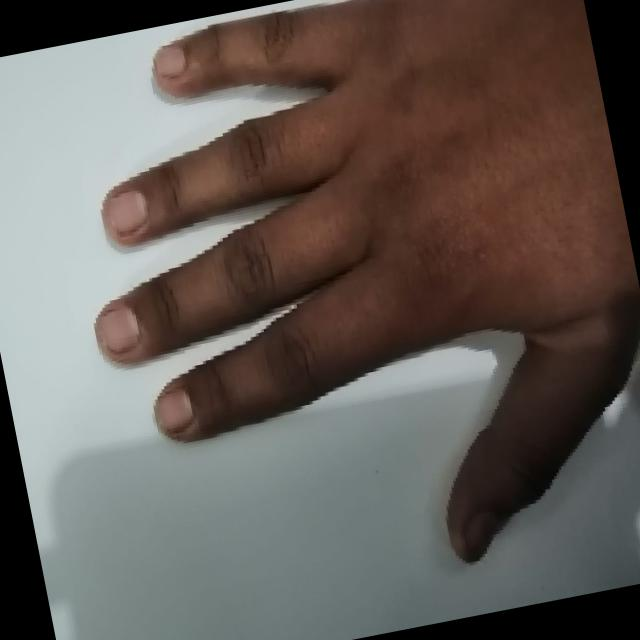Nail: (103, 189, 148, 233), (97, 305, 140, 350), (156, 389, 193, 431), (465, 510, 498, 551), (154, 43, 186, 77)
